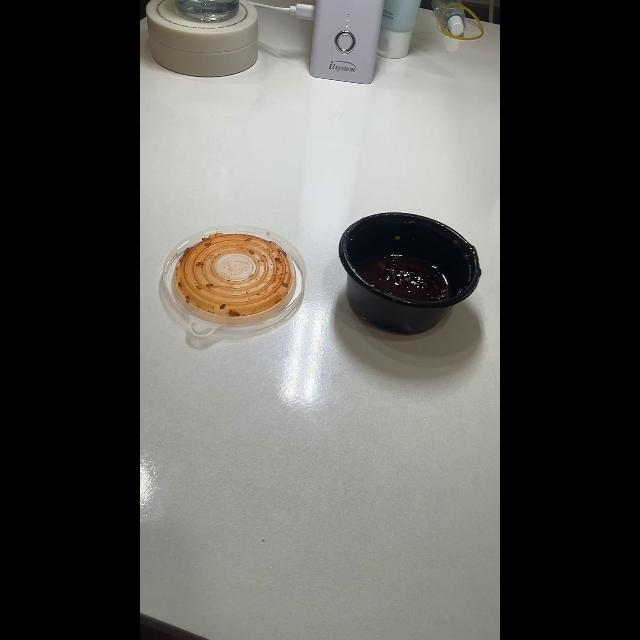clean: (432, 0, 466, 38)
dirty: (340, 213, 480, 333), (163, 227, 303, 331)
